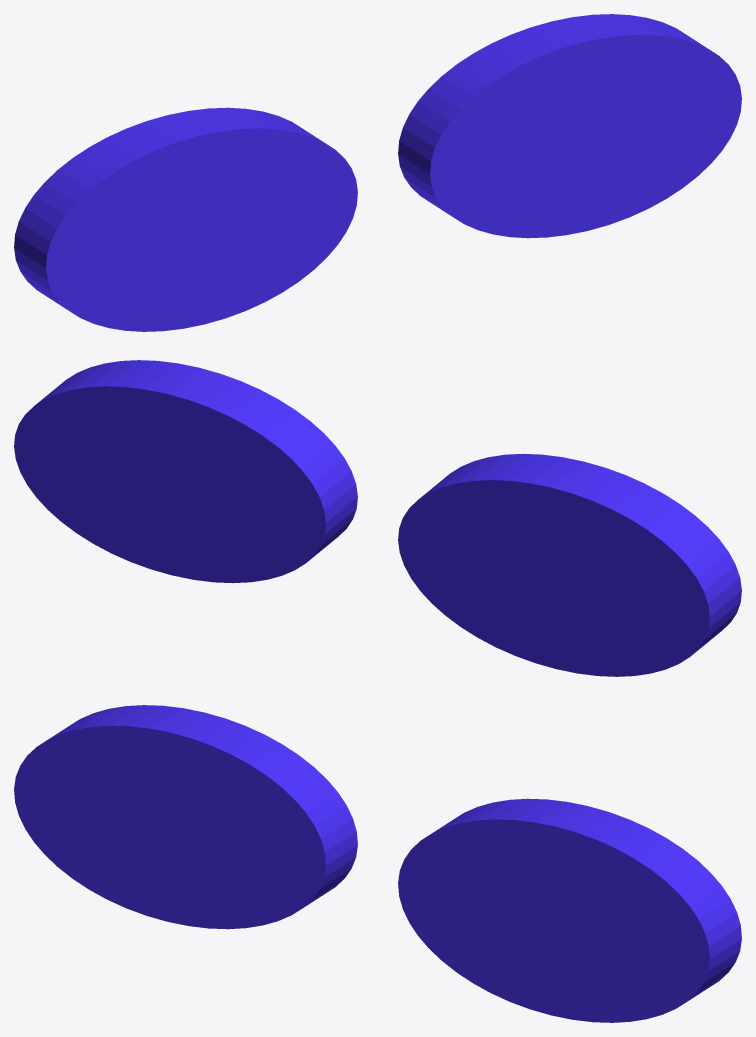
File: ovals.obj
3 views of the same model, one above another, from view 1: azimuth 30°, elevation 25°; view 2: azimuth 150°, elevation 25°; view 3: azimuth 330°, elevation 25° (orthographic).
Parts seen in each view (by area): view 1: Oval; view 2: Oval; view 3: Oval.
Part boxes in pixels (x1=…): Oval: x1=14, y1=14, x2=741, y2=331; Oval: x1=14, y1=360, x2=741, y2=676; Oval: x1=14, y1=705, x2=741, y2=1022.
Size of the model in its own units: 0.1253 by 0.0323 by 0.0115.
